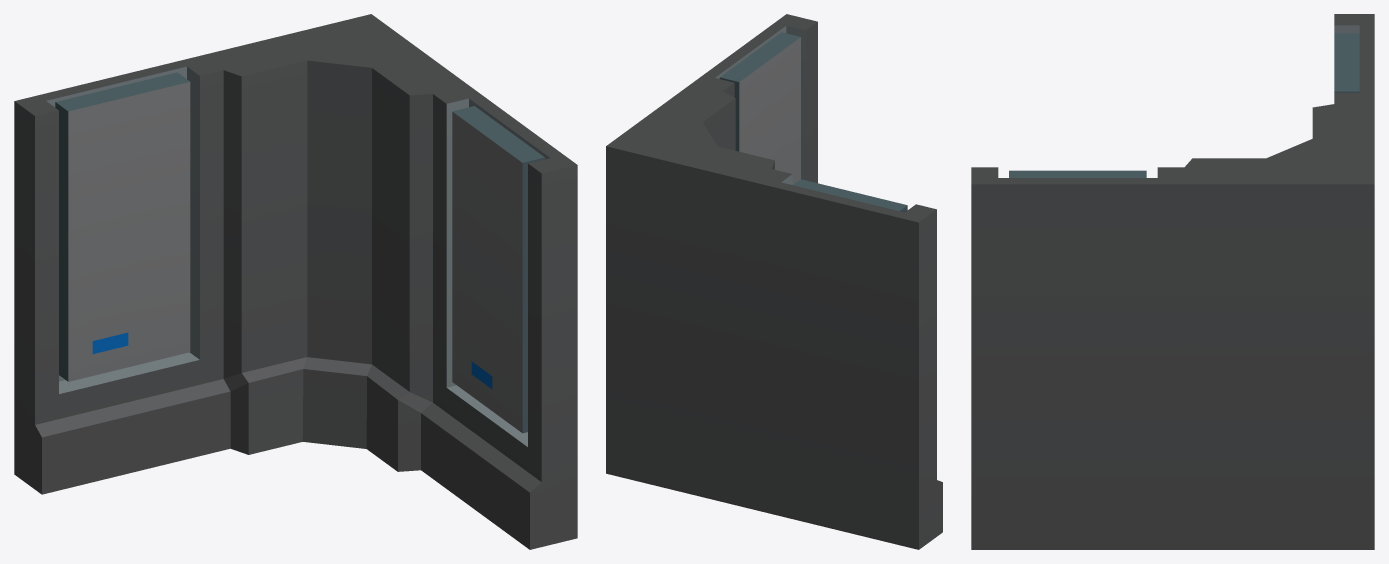
The model's file is Wall_type_B_046.fbx.
3 renders of one model, left to right at view 1: azimuth 30°, elevation 25°; view 2: azimuth 150°, elevation 25°; view 3: azimuth 270°, elevation 25°, orthographic. The views are drawn at different scales.
Parts seen in each view (by area): view 1: Wall_type_B_046; view 2: Wall_type_B_046; view 3: Wall_type_B_046.
Boxes of the visible parts, x1,y1,x2,y2 form: Wall_type_B_046: (14, 14, 577, 549); Wall_type_B_046: (606, 14, 942, 549); Wall_type_B_046: (971, 14, 1374, 549).
Size of the model in its own units: 150 by 150 by 150.
